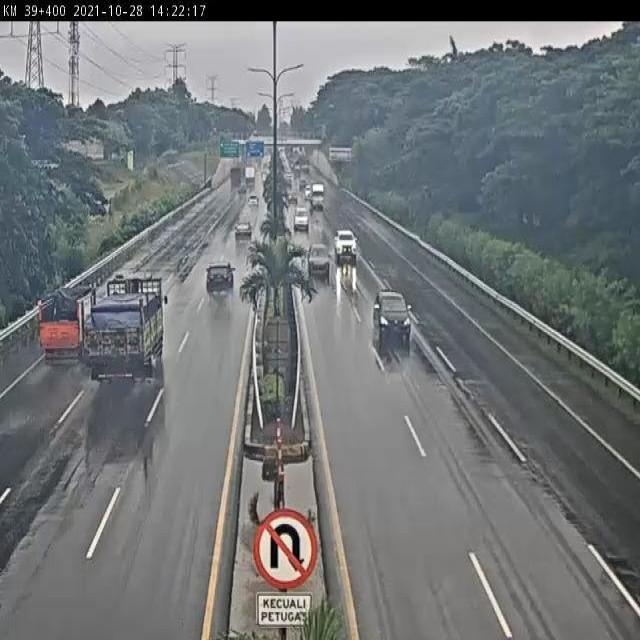car: (374, 289, 412, 344), (204, 262, 235, 298), (306, 242, 332, 282), (331, 227, 360, 261)
truck-l-: (82, 273, 166, 384)
truck-s-: (37, 280, 96, 371)
